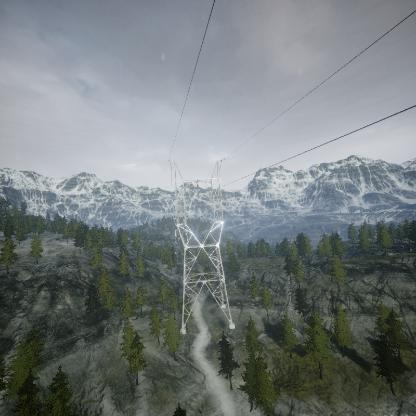tower: (163, 152, 240, 334)
